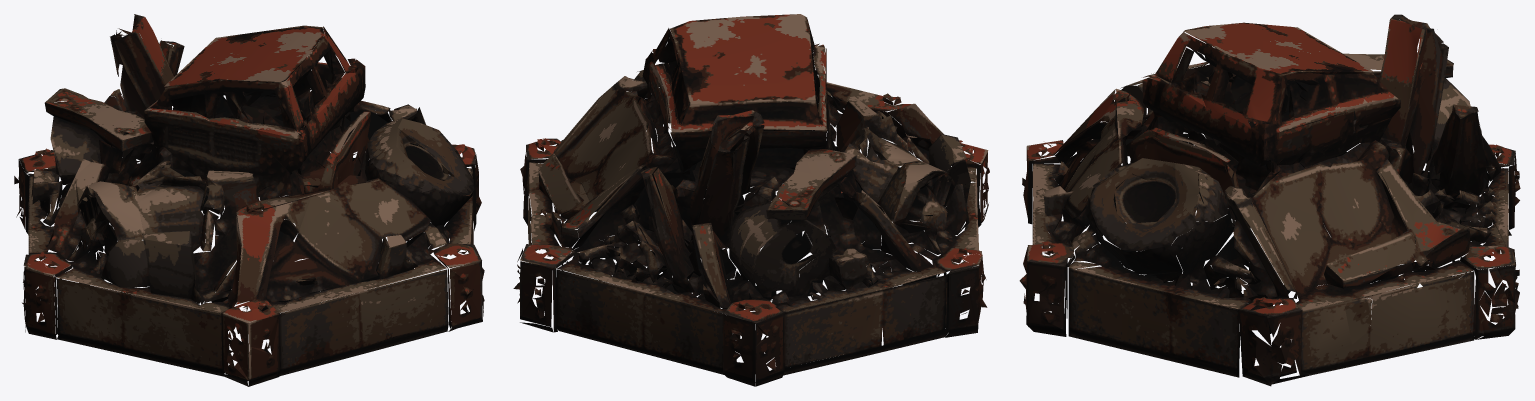
File: tr_heap.glb
3 views of the same model, side by side, from view 1: azimuth 30°, elevation 25°; view 2: azimuth 150°, elevation 25°; view 3: azimuth 270°, elevation 25° (orthographic). The views are drawn at different scales.
Parts seen in each view (by area): view 1: tr_heap; view 2: tr_heap; view 3: tr_heap.
Part boxes in pixels (bbox=[...]): tr_heap: bbox=[14, 14, 484, 386]; tr_heap: bbox=[513, 14, 989, 386]; tr_heap: bbox=[1019, 14, 1520, 386].
Size of the model in its own units: 1.5 by 0.7457 by 1.36.
1 material, 1 textured.
